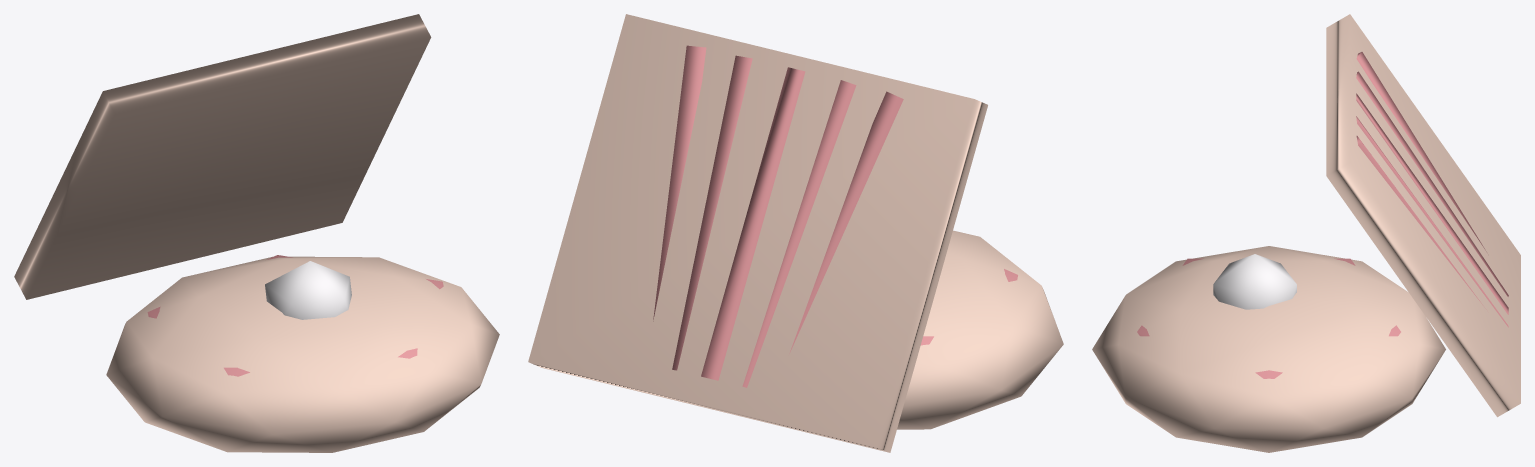
File: clam.glb
3 views of the same model, side by side, from view 1: azimuth 30°, elevation 25°; view 2: azimuth 150°, elevation 25°; view 3: azimuth 270°, elevation 25° (orthographic). The views are drawn at different scales.
Parts seen in each view (by area): view 1: clam_shell; view 2: clam_shell; view 3: clam_shell.
Part boxes in pixels (x1=…): clam_shell: x1=14, y1=14, x2=499, y2=452; clam_shell: x1=528, y1=14, x2=1063, y2=452; clam_shell: x1=1092, y1=14, x2=1520, y2=452.
Bounding box in the file's own units: 1.33 × 1.27 × 1.53.
